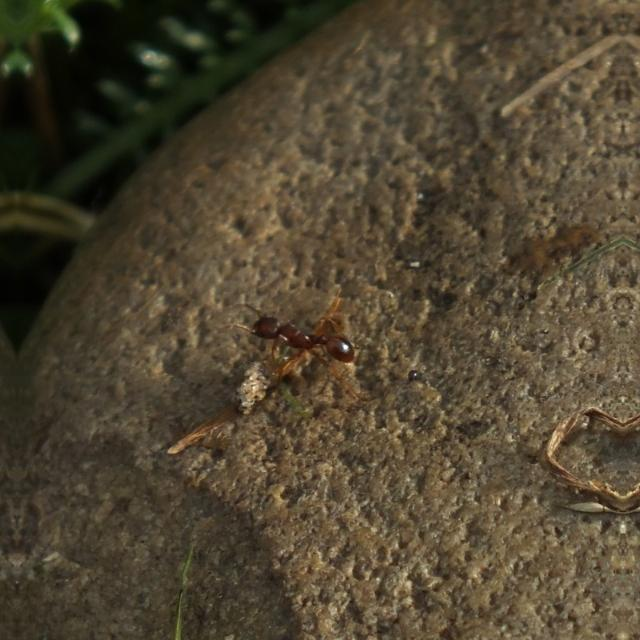Myrmica: (240, 302, 364, 386)
